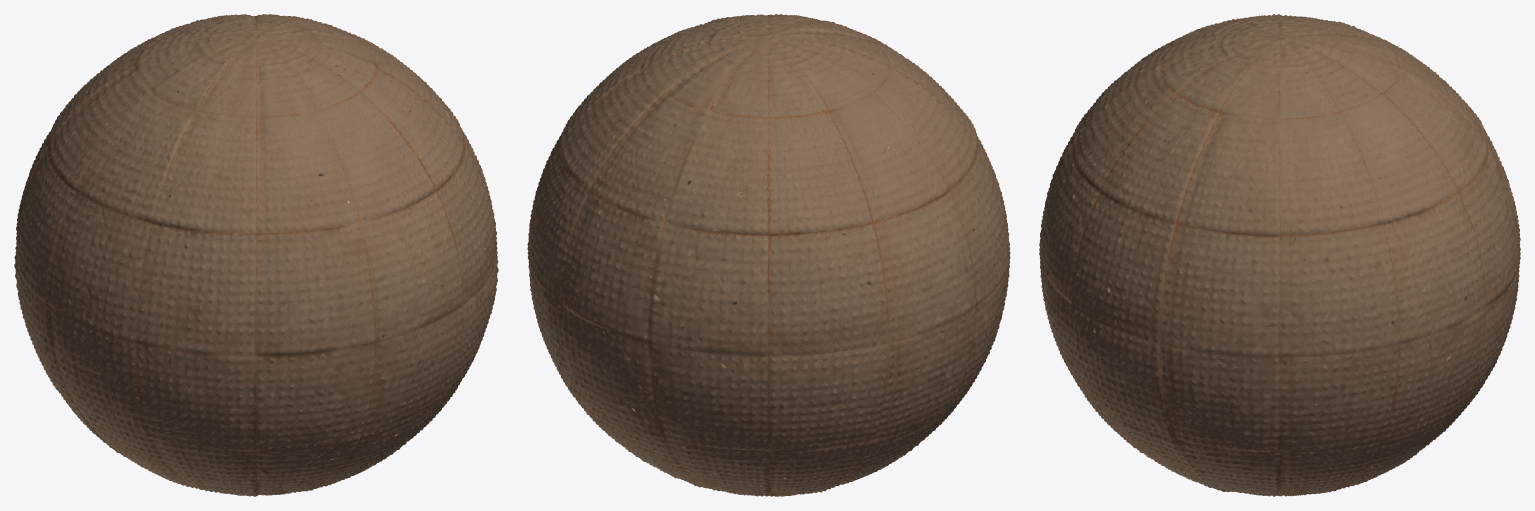
File: anti_skid_tiles_1k.gltf
3 views of the same model, side by side, from view 1: azimuth 30°, elevation 25°; view 2: azimuth 150°, elevation 25°; view 3: azimuth 270°, elevation 25° (orthographic).
Parts seen in each view (by area): view 1: sphere_gltf; view 2: sphere_gltf; view 3: sphere_gltf.
Part boxes in pixels (<box>): sphere_gltf: <box>14,14,498,496</box>; sphere_gltf: <box>527,14,1010,496</box>; sphere_gltf: <box>1039,14,1520,496</box>.
Size of the model in its own units: 1.83 by 1.83 by 1.83.
Materials: 1 (1 with a texture image).
